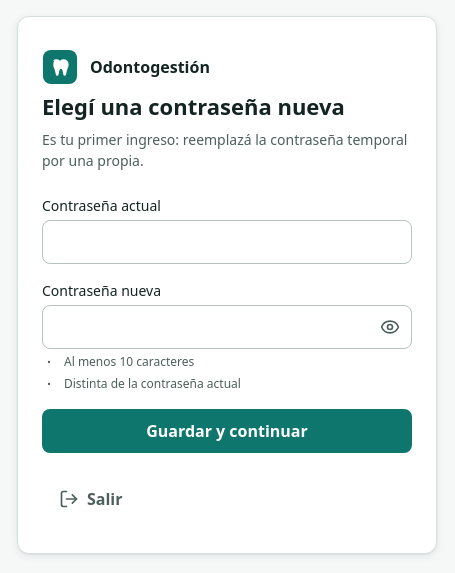
CambiarContrasenaPage › Salir cierra la sesion
The image size is (455, 573).
Expected: the heading "Elegí una contraseña nueva" is shown, left=42, top=91, right=345, bottom=121
Click the button "Salir". click: (91, 499)
box: left=42, top=477, right=140, bottom=521
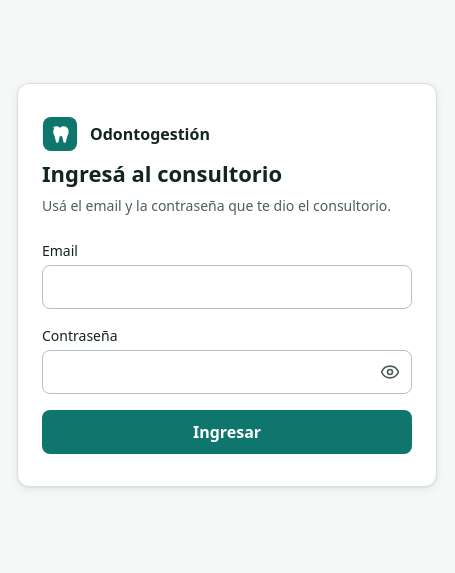
Expected: the heading "Ingresá al consultorio" is shown, left=42, top=158, right=282, bottom=188
